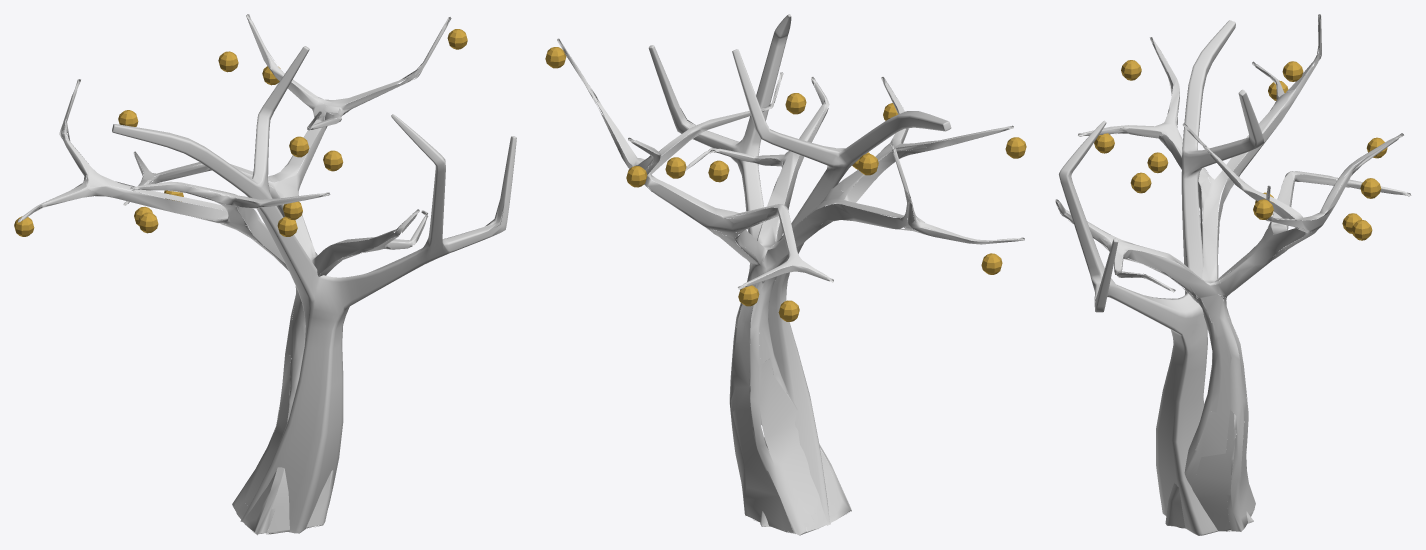
The model's file is landing-kit.glb.
3 views of the same model, side by side, from view 1: azimuth 30°, elevation 25°; view 2: azimuth 150°, elevation 25°; view 3: azimuth 270°, elevation 25° (orthographic). The views are drawn at different scales.
Visible parts, largest first — view 1: nutmeg, tree_leafy; view 2: nutmeg, tree_leafy; view 3: nutmeg, tree_leafy.
Part boxes in pixels (box(x1,y1,x2,y2)): nutmeg: box(14, 14, 467, 535); tree_leafy: box(112, 46, 516, 533); nutmeg: box(545, 38, 1026, 535); tree_leafy: box(648, 14, 951, 526); nutmeg: box(1055, 14, 1411, 531); tree_leafy: box(1059, 20, 1264, 535).
Size of the model in its own units: 6.16 by 5.8 by 4.2.
